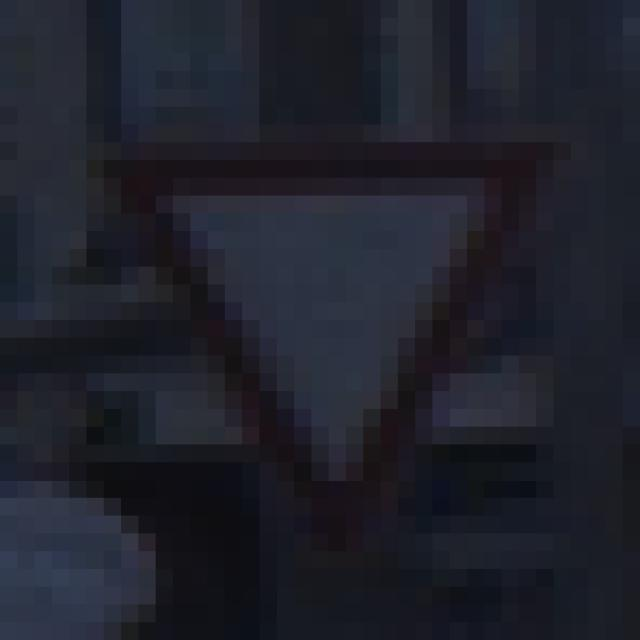Give Way: (88, 108, 555, 552)
